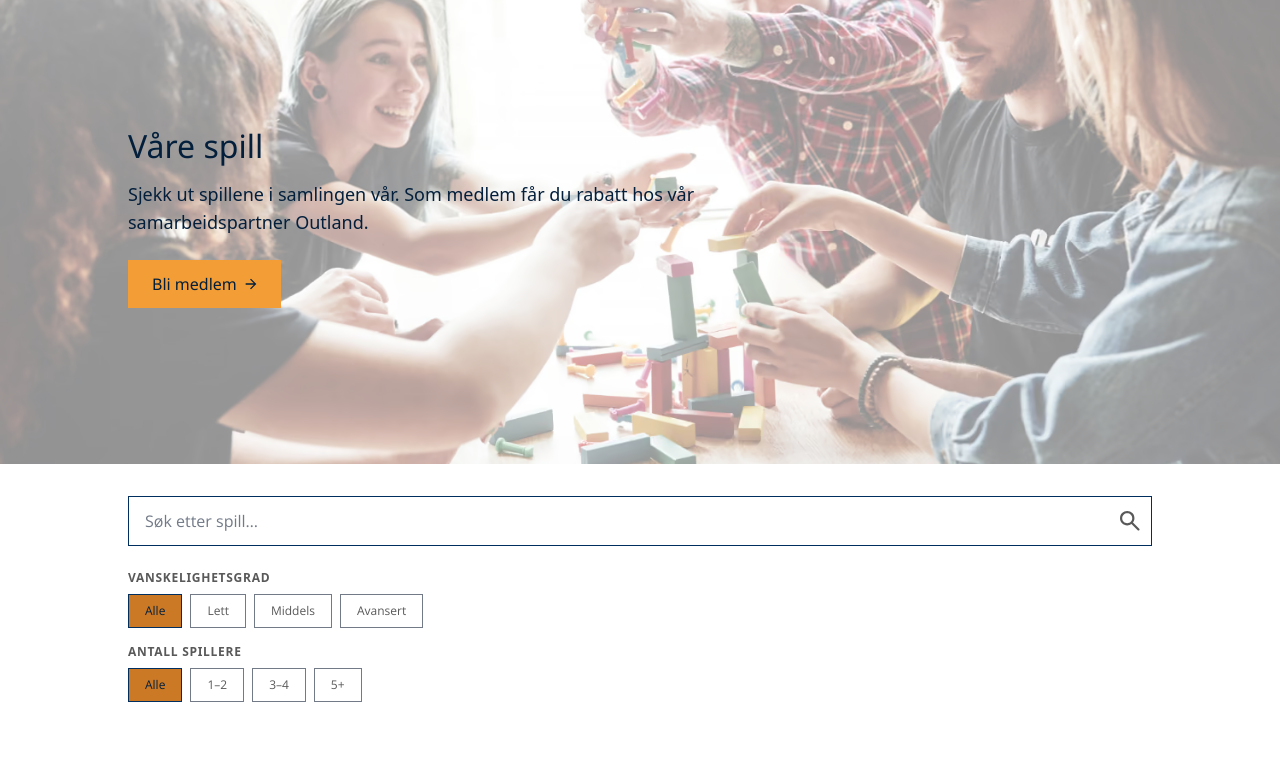
Scenario: OurGamesSection › filters by search text across title and genre
The width and height of the screenshot is (1280, 768).
In the search field labelled "Søk etter spill": (640, 521) 128,496 -> 1152,546, type "storgruppe"
(page scrolled)
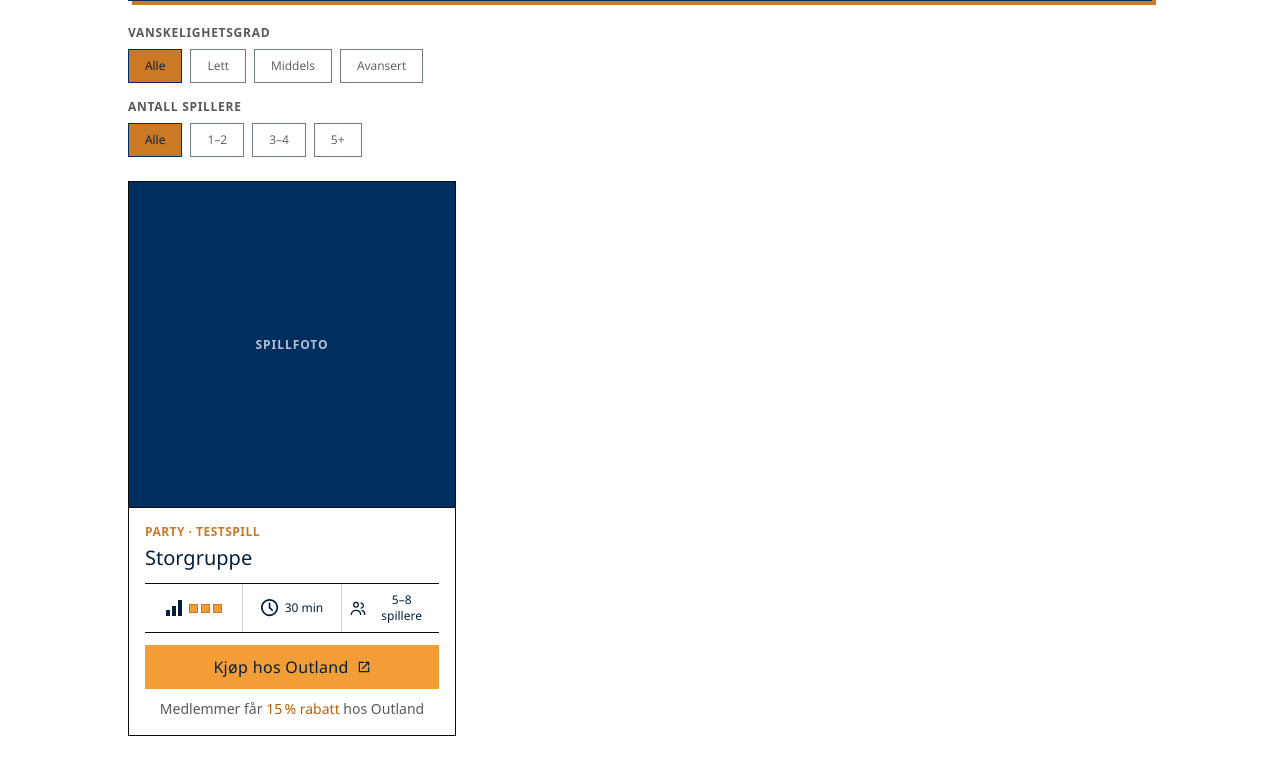
Check: the heading "Storgruppe" is shown, box 145,544 -> 252,571
